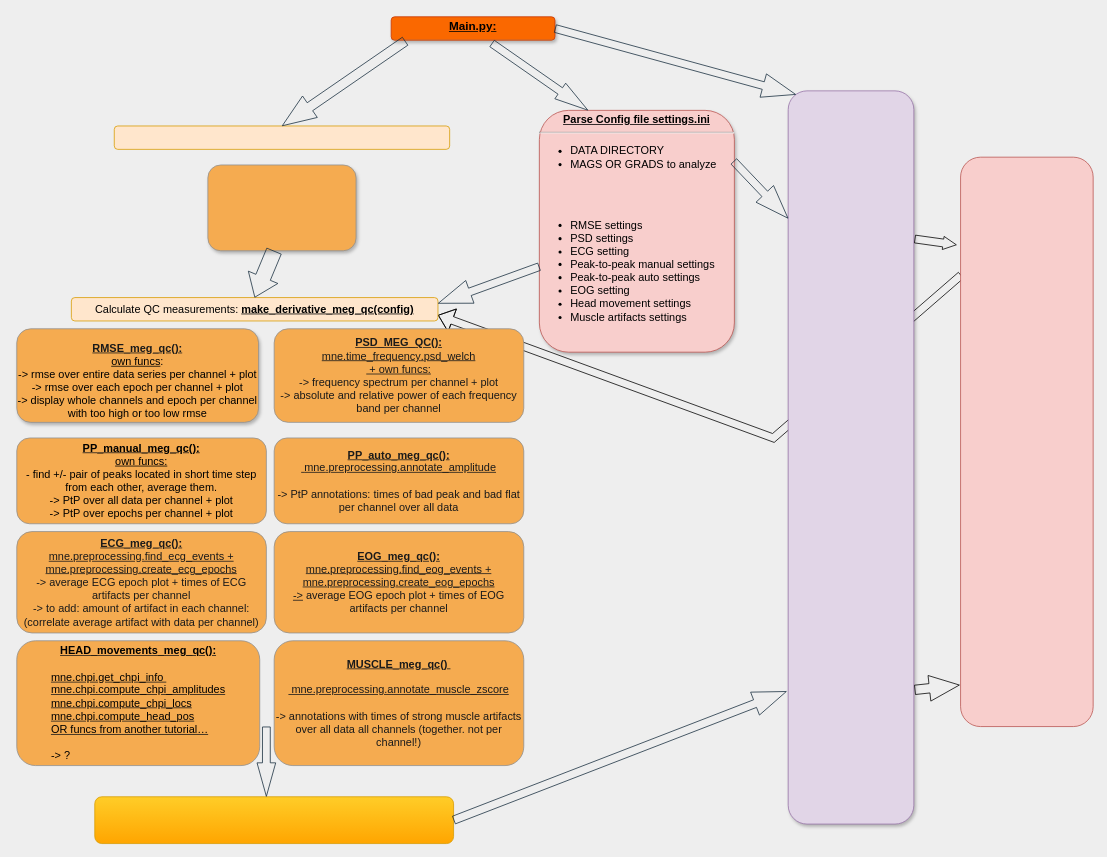
The diagram is 1107 pixels wide and 857 high, and some of its shapes have lost their labels. Each missing label, with the centre of its shape:
ANCP BIDS Find all fifs Save all derivatives: the point at 851,458
BIDS file system: MEG BIDS data file (.fif) MEG QC derivative (html, csv): the point at 1026,441
Derivatives for each measurement as figure, DataFrame or html-string: the point at 274,820
For every subject:: the point at 281,137
Initial_stuff(): Load fif data Filter and resample Epoch data: the point at 282,208
